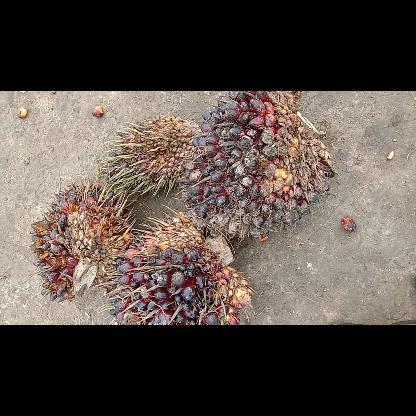Kurang masak: (182, 90, 335, 240), (102, 212, 252, 324)
TBS abnormal: (104, 115, 204, 195)
TBS masak: (32, 182, 132, 300)
